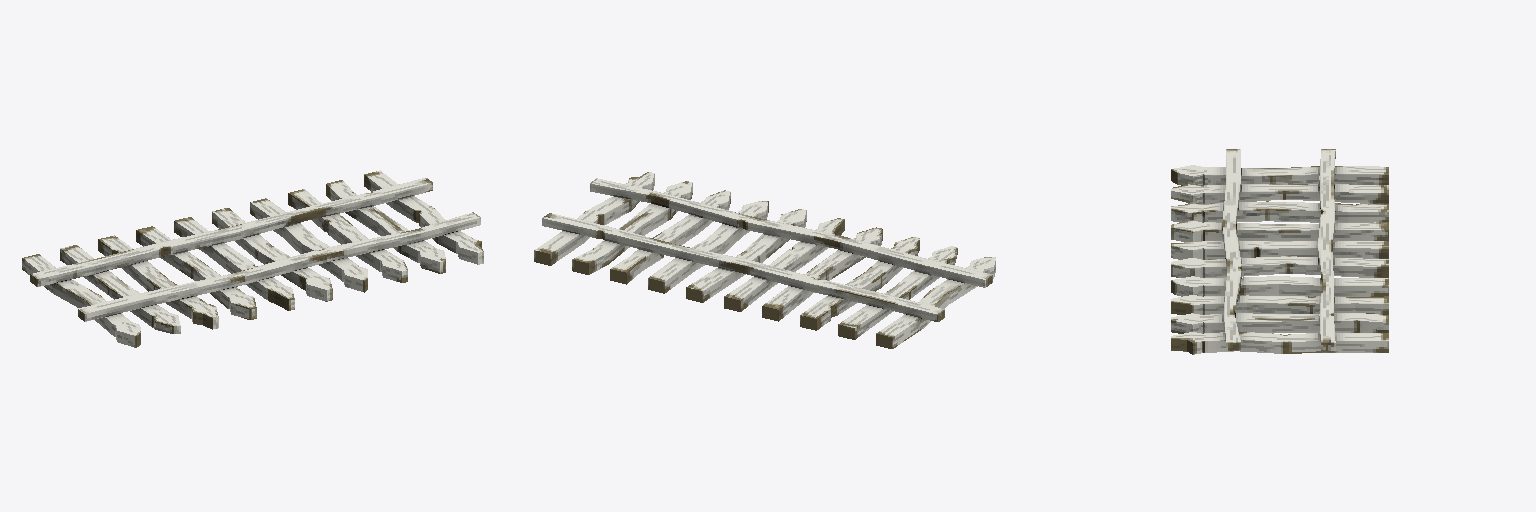
The picture shows the model from 3 angles: view 1: azimuth 30°, elevation 25°; view 2: azimuth 150°, elevation 25°; view 3: azimuth 270°, elevation 25°; orthographic projection.
Parts seen in each view (by area): view 1: Box002; view 2: Box002; view 3: Box002.
Boxes of the visible parts, x1,y1,x2,y2 form: Box002: [22, 170, 483, 347]; Box002: [534, 172, 995, 348]; Box002: [1171, 149, 1388, 354].
Size of the model in its own units: 314 by 15 by 150.
1 materials, 1 textured.